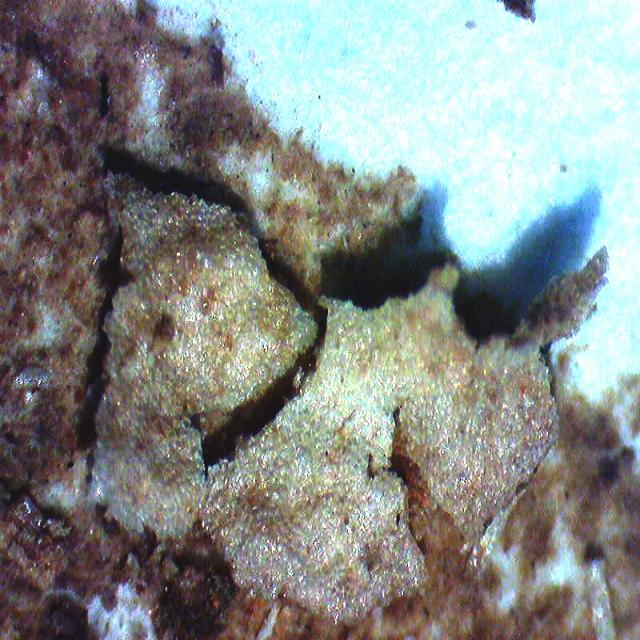microplastic: (92, 173, 560, 620)
